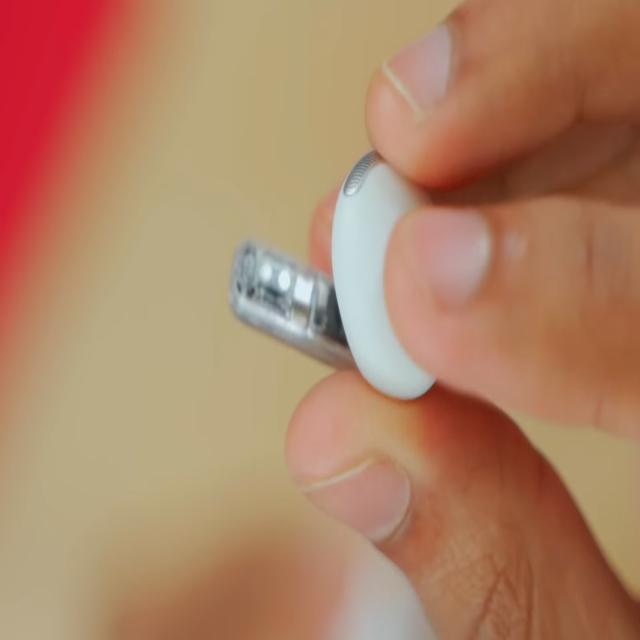airpods: (228, 144, 440, 407)
